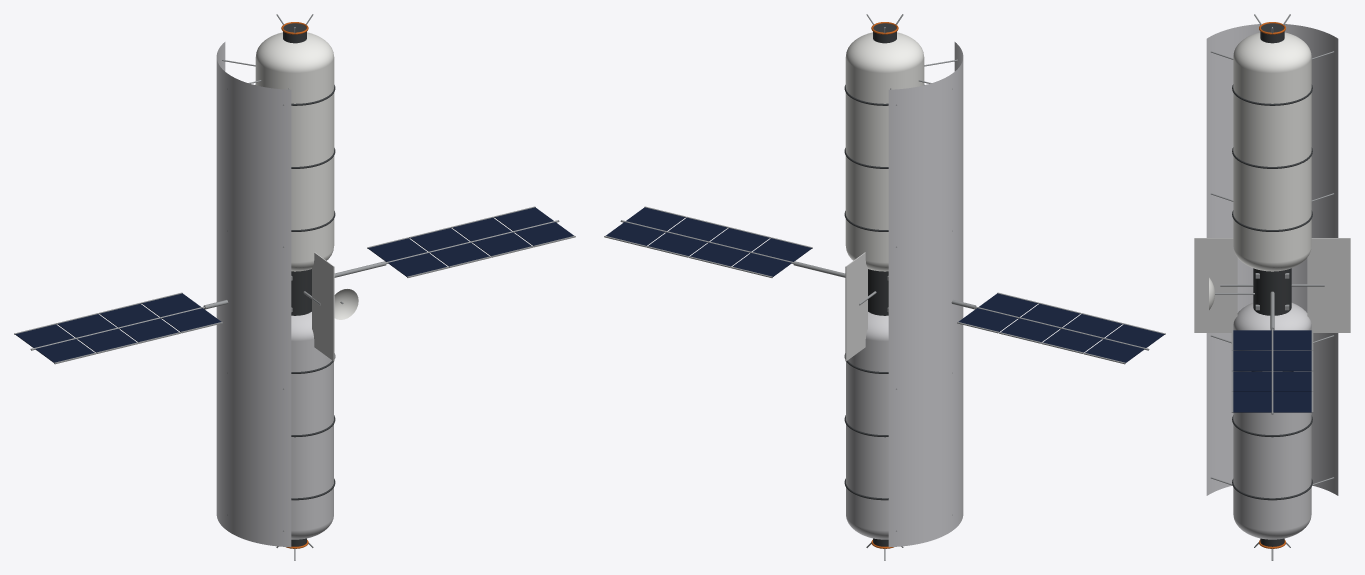
File: OR02_propellant_depot.glb
The picture shows the model from 3 angles, left to right: view 1: azimuth 30°, elevation 25°; view 2: azimuth 150°, elevation 25°; view 3: azimuth 270°, elevation 25°; orthographic projection.
Visible parts, largest first — view 1: sun_shade, propellant_tank (×2), solar_panel, tank_ring; view 2: sun_shade, propellant_tank (×2), solar_panel, tank_ring; view 3: propellant_tank (×2), sun_shade, solar_panel, tank_ring, docking_ring.
Part boxes in pixels (bbox=[...]): sun_shade: bbox=[216, 42, 291, 547]; propellant_tank (×2): bbox=[14, 14, 575, 560]; solar_panel: bbox=[15, 207, 573, 362]; tank_ring: bbox=[283, 23, 335, 546]; sun_shade: bbox=[888, 42, 963, 547]; propellant_tank (×2): bbox=[604, 14, 1165, 560]; solar_panel: bbox=[606, 207, 1164, 362]; tank_ring: bbox=[844, 23, 896, 546]; propellant_tank (×2): bbox=[1194, 14, 1350, 560]; sun_shade: bbox=[1206, 24, 1338, 495]; solar_panel: bbox=[1233, 330, 1311, 412]; tank_ring: bbox=[1232, 23, 1312, 546]; docking_ring: bbox=[1259, 22, 1285, 548].
Size of the model in its own units: 70 by 67.7 by 18.
